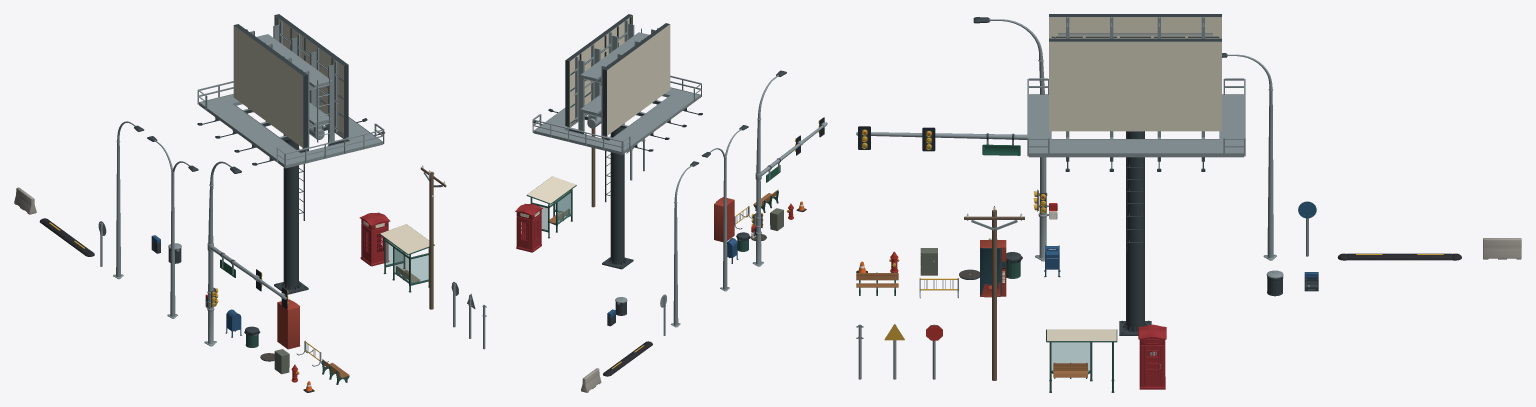
The model's file is CityProps.fbx.
The picture shows the model from 3 angles, left to right: view 1: azimuth 30°, elevation 25°; view 2: azimuth 150°, elevation 25°; view 3: azimuth 270°, elevation 25°; orthographic projection. The views are drawn at different scales.
Parts seen in each view (by area): view 1: Billboard, TrafficSignalMast, PhoneBoothBody, VendingMachine, StreetLightDouble, BusShelterRoof, UtilityPole, StreetLightSingle, BusShelterFrame, SpeedBump, BusShelterSidePanelLeft; view 2: Billboard, TrafficSignalMast, PhoneBoothBody, BusShelterRoof, StreetLightDouble, VendingMachine, StreetLightSingle, SpeedBump, BusShelterFrame, BusShelterBackPanel, UtilityPole, ConcreteBarrier (+1 smaller); view 3: Billboard, TrafficSignalMast, PhoneBoothBody, VendingMachine, UtilityPole, StreetLightSingle, BusShelterRoof, SpeedBump, BusShelterBackPanel, ConcreteBarrier, ParkBench.
Part boxes in pixels (x1,y1,x2,y2): Billboard: (197, 14, 384, 294); TrafficSignalMast: (204, 161, 288, 346); PhoneBoothBody: (359, 212, 390, 266); VendingMachine: (277, 299, 300, 349); StreetLightDouble: (147, 136, 198, 318); BusShelterRoof: (379, 224, 434, 255); UtilityPole: (420, 165, 446, 309); StreetLightSingle: (113, 121, 144, 279); BusShelterFrame: (383, 238, 429, 292); SpeedBump: (39, 218, 94, 256); BusShelterSidePanelLeft: (411, 254, 428, 284); Billboard: (532, 14, 702, 269); TrafficSignalMast: (751, 70, 827, 266); PhoneBoothBody: (515, 203, 542, 252); BusShelterRoof: (526, 176, 576, 204); StreetLightDouble: (701, 125, 748, 291); VendingMachine: (714, 197, 734, 241); StreetLightSingle: (671, 161, 698, 327); SpeedBump: (603, 341, 652, 376); BusShelterFrame: (530, 189, 572, 238); BusShelterBackPanel: (557, 192, 571, 224); UtilityPole: (591, 128, 595, 207); ConcreteBarrier: (581, 368, 601, 392); Billboard: (1027, 14, 1245, 335); TrafficSignalMast: (856, 17, 1057, 261); PhoneBoothBody: (1138, 324, 1166, 389); VendingMachine: (980, 240, 1006, 297); UtilityPole: (964, 206, 1024, 380); StreetLightSingle: (1222, 53, 1276, 260); BusShelterRoof: (1046, 329, 1117, 342); SpeedBump: (1337, 253, 1461, 260); BusShelterBackPanel: (1052, 342, 1090, 371); ConcreteBarrier: (1483, 238, 1521, 259); ParkBench: (856, 272, 898, 295).
Bounding box in the file's own units: 11.77 × 11.87 × 23.75.
